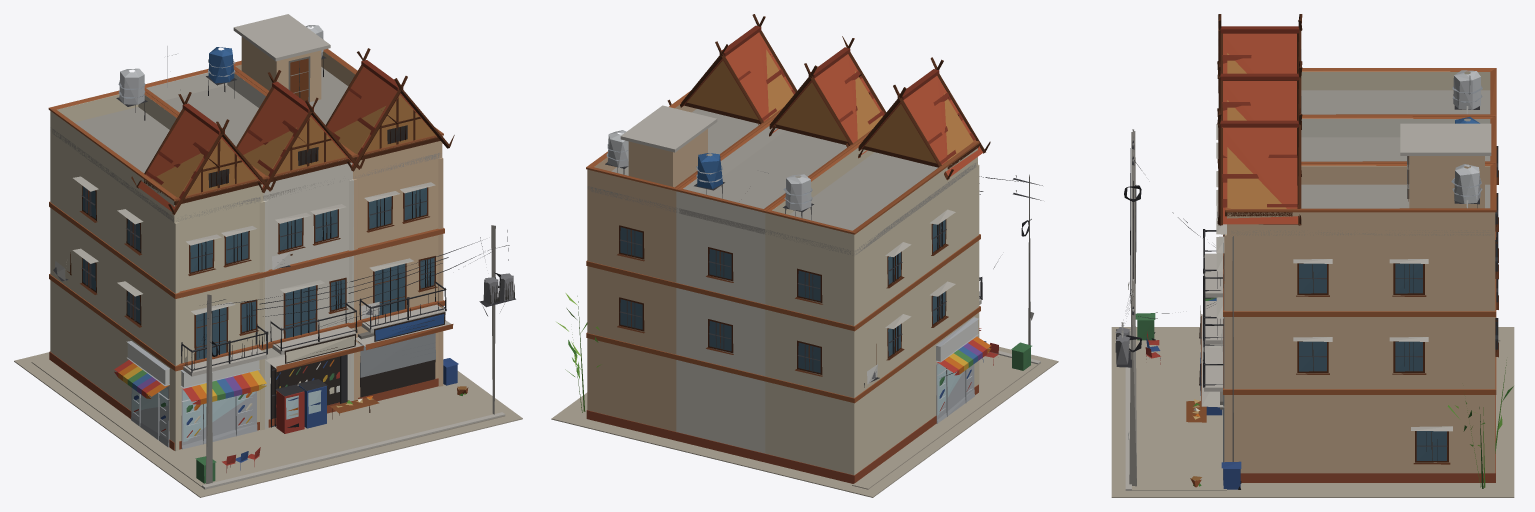
The model's file is shop_3.glb.
The picture shows the model from 3 angles, left to right: view 1: azimuth 30°, elevation 25°; view 2: azimuth 150°, elevation 25°; view 3: azimuth 270°, elevation 25°; orthographic projection. The views are drawn at different scales.
Parts seen in each view (by area): view 1: body, windows; view 2: body, windows; view 3: body, windows.
Boxes of the visible parts, bbox=[...] form: body: bbox=[14, 14, 522, 497]; windows: bbox=[82, 125, 435, 418]; body: bbox=[551, 14, 1058, 497]; windows: bbox=[620, 219, 945, 372]; body: bbox=[1111, 14, 1514, 497]; windows: bbox=[1299, 212, 1496, 460].
Bounding box in the file's own units: 16.46 × 15.46 × 17.14.
